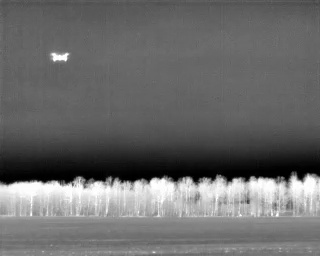DRONE: (46, 48, 73, 68)
